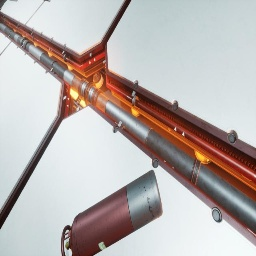NitrogenTank ,: (61, 170, 163, 256)
